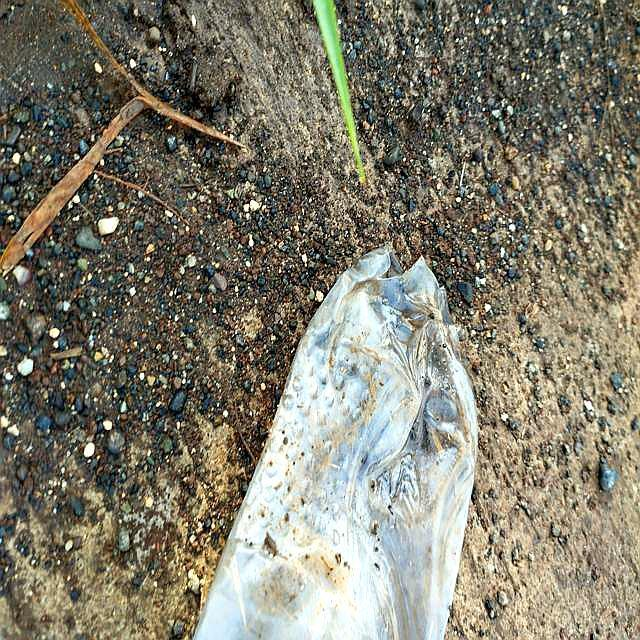Non-biodegradable: (181, 223, 505, 640)
